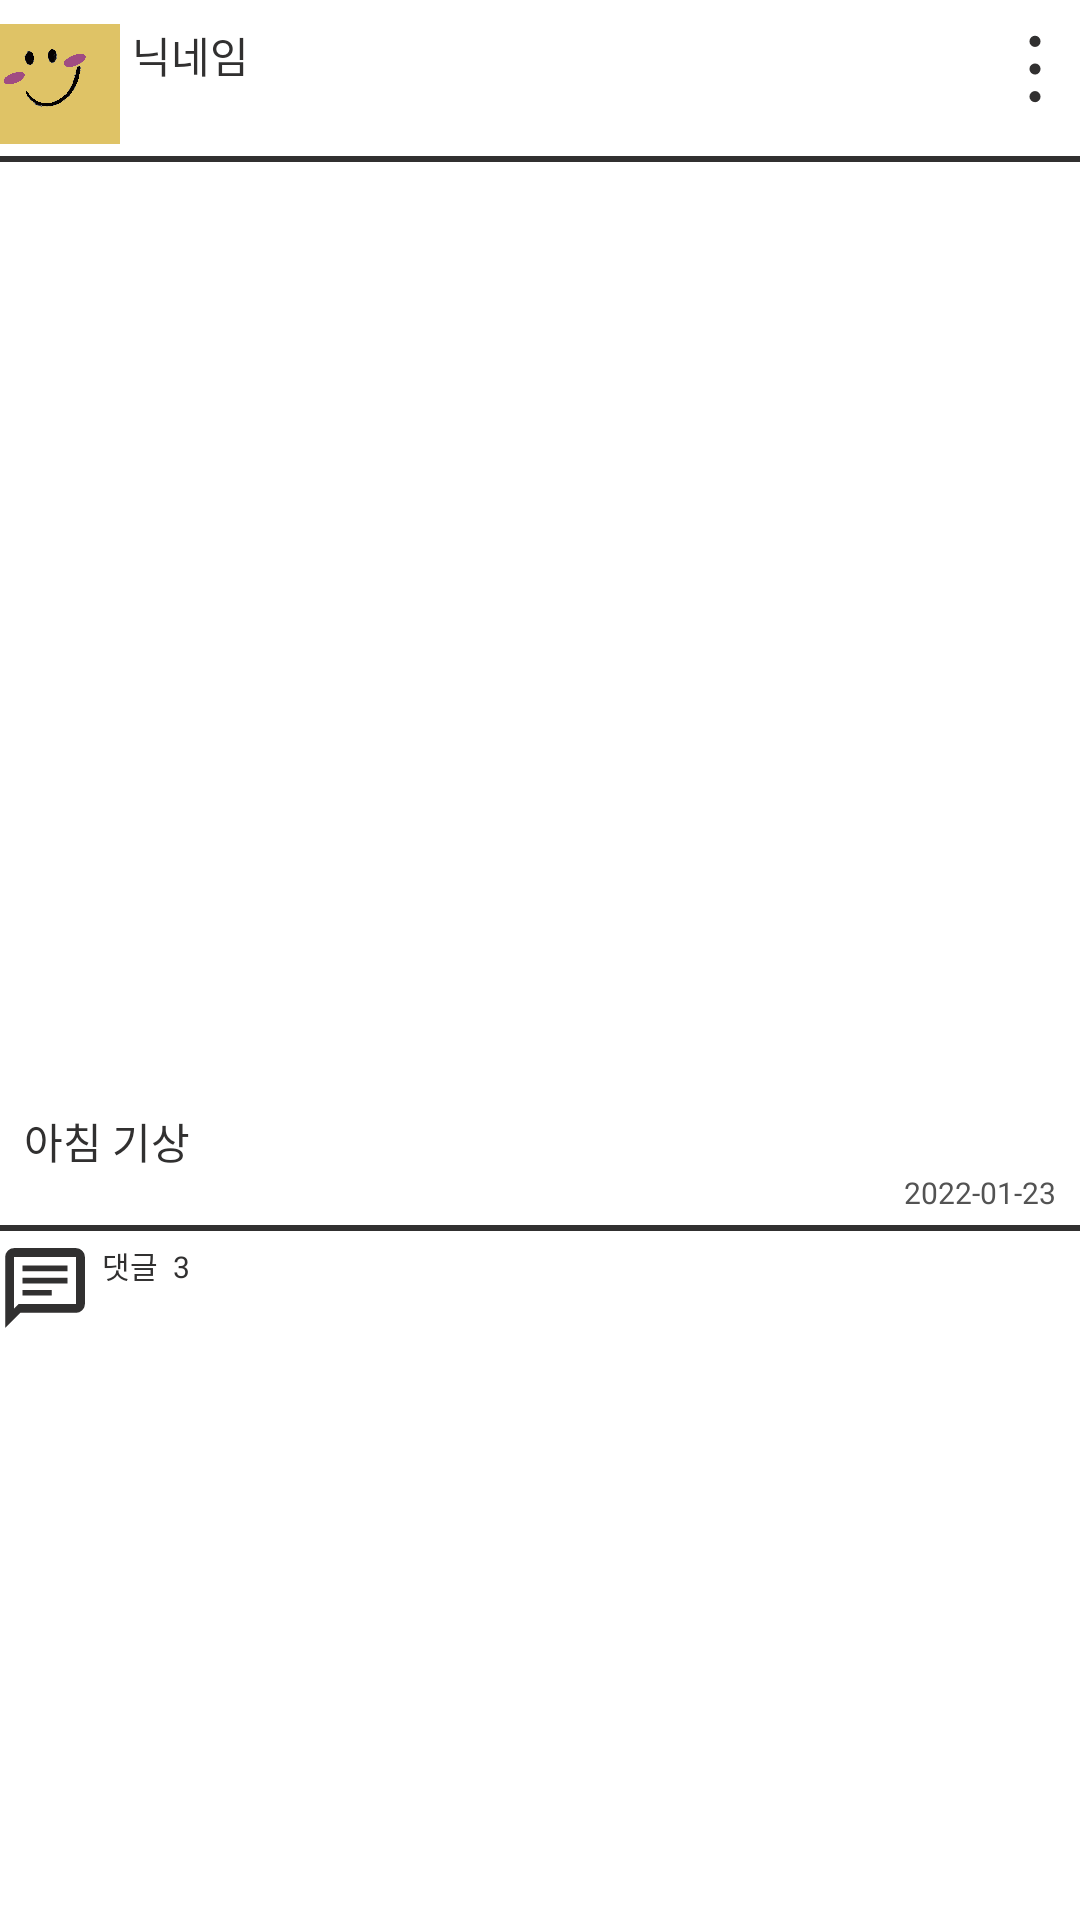

Screen size 1080w x 1920h. Icon name, then its box in pixels as (x1, y1, x2, y2):
blush: (0, 24, 120, 144)
chat: (5, 1248, 85, 1328)
more vert: (1029, 35, 1041, 103)
